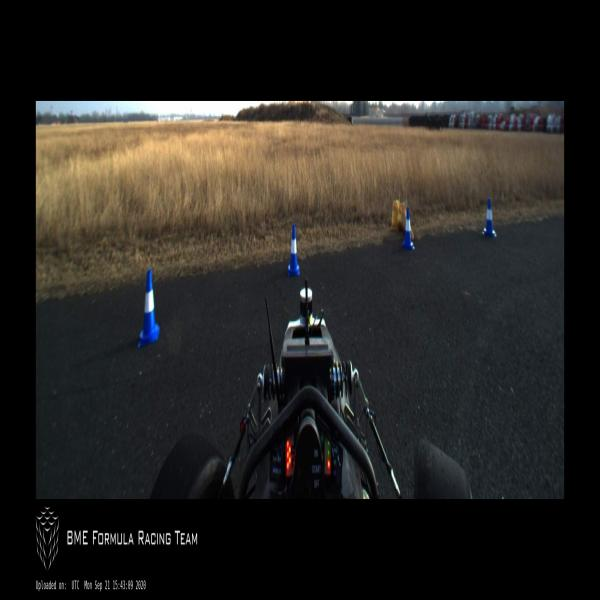blue_cone: (138, 270, 159, 347), (401, 205, 415, 251), (482, 195, 496, 238), (288, 227, 300, 275)
unknown_cone: (398, 203, 414, 242), (392, 199, 398, 229)
